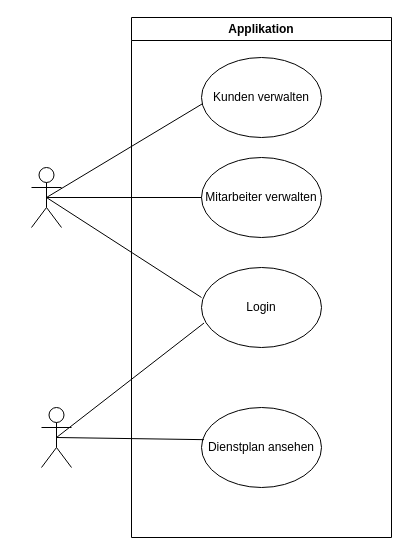
The diagram is 409 pixels wide and 555 high, and some of its shapes have lost their labels. The centre of each missing label's shape, as x and y in pixels:
"Pflege" goes at (56,437).
"Verwaltung" goes at (46,197).
